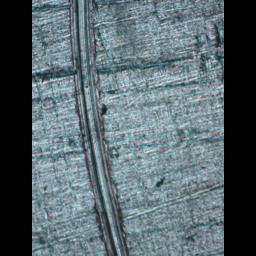d: (66, 0, 132, 255)
